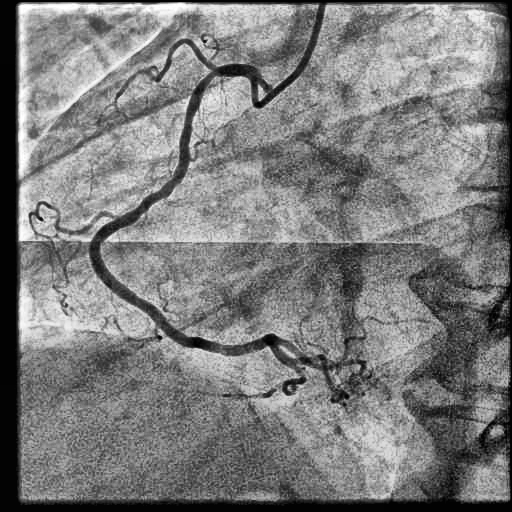pborca: (281, 340, 348, 370)
pda: (265, 340, 305, 396)
rca: (89, 64, 276, 356)
